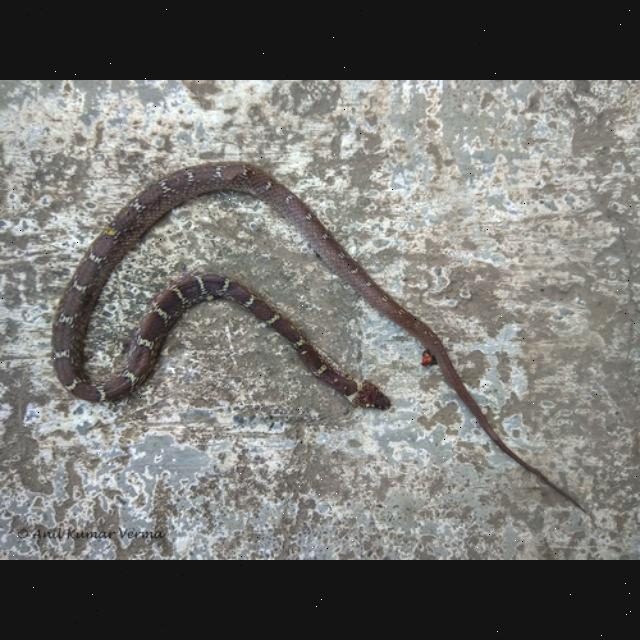snake: (49, 164, 602, 560)
